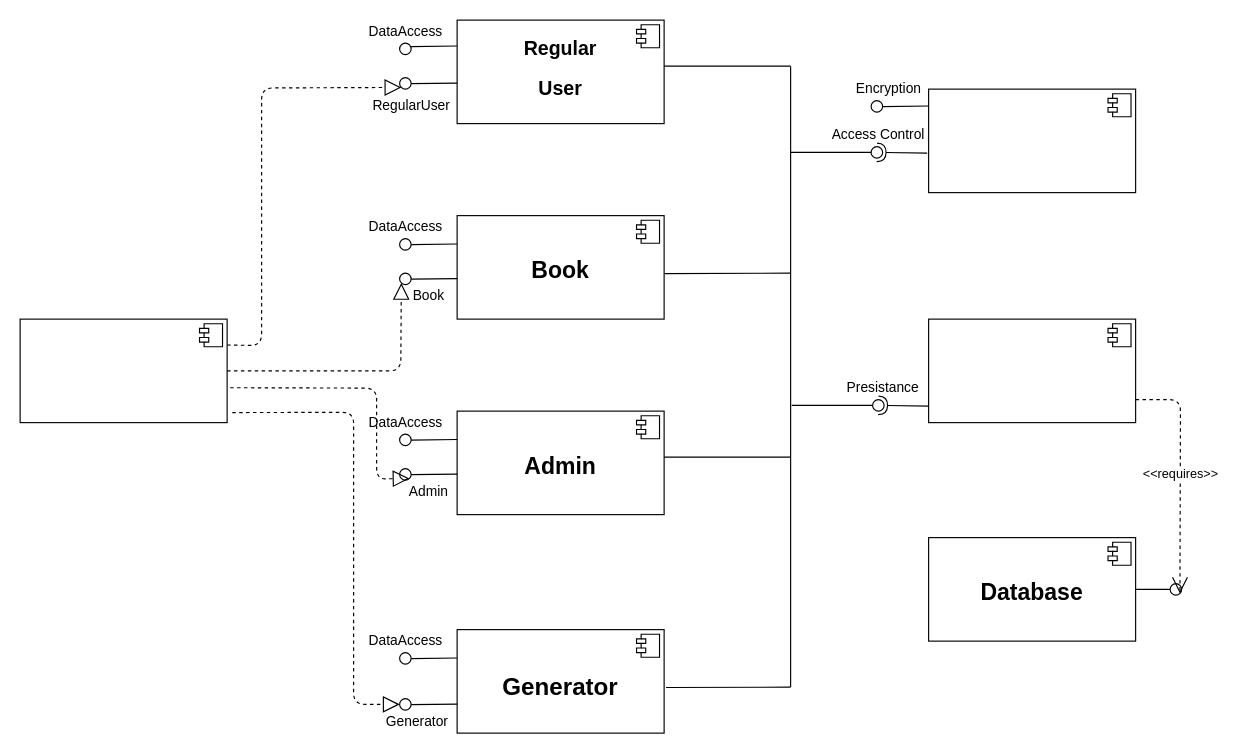
Some shapes in this 1237 by 753 pixel diagram are drawn without their labels. The shapes that lost their labels are listed below. From the top down, each one's box as (x1, y1, x2, y2) in pixels, then its label:
(927, 88, 1136, 193): Security
(19, 318, 227, 423): Library Management System
(927, 318, 1136, 423): Persistance
